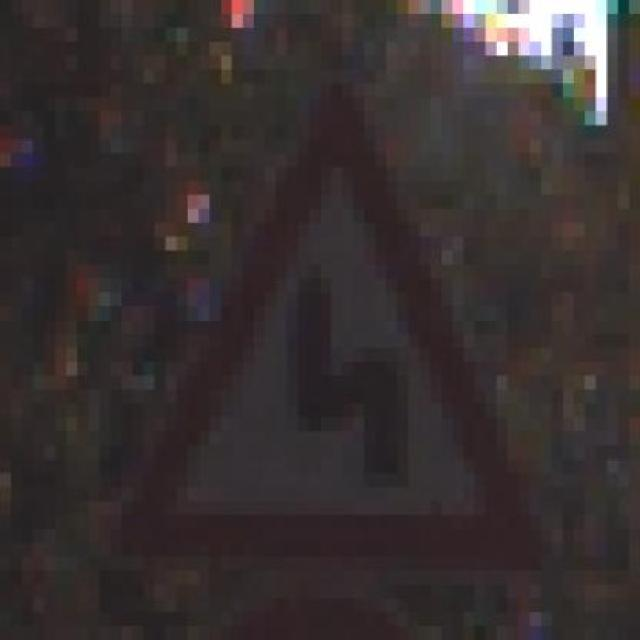Left Zig Zag Traffic: (88, 42, 563, 584)
